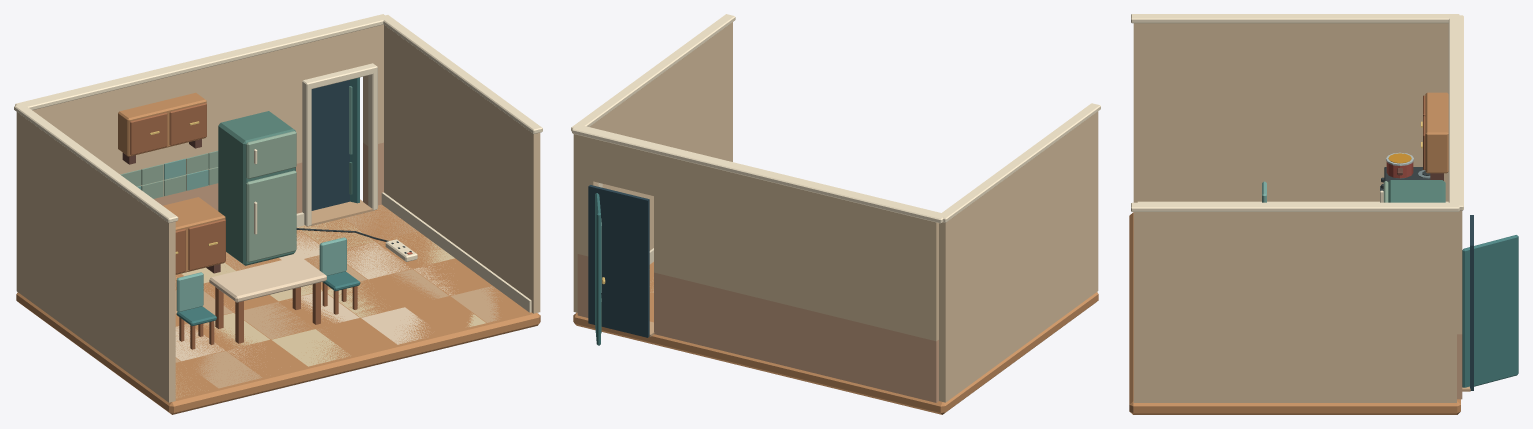
File: kitchen.glb
3 views of the same model, side by side, from view 1: azimuth 30°, elevation 25°; view 2: azimuth 150°, elevation 25°; view 3: azimuth 270°, elevation 25° (orthographic). The views are drawn at different scales.
Visible parts, largest first — view 1: architecture_stone_plaster_metal, intact_refrigerator, intact_wall_cabinet, intact_kitchen_table, intact_base_cabinet, intact_chair_left, intact_chair_right, intact_door, intact_power_strip; view 2: architecture_stone_plaster_metal, intact_door; view 3: architecture_stone_plaster_metal, intact_door, intact_wall_cabinet, intact_refrigerator, intact_oil_pot, intact_stove.
Part boxes in pixels (left/top/right/bottom): architecture_stone_plaster_metal: left=14, top=14, right=542, bottom=414; intact_refrigerator: left=218, top=111, right=296, bottom=265; intact_wall_cabinet: left=118, top=92, right=206, bottom=164; intact_kitchen_table: left=209, top=256, right=326, bottom=343; intact_base_cabinet: left=163, top=197, right=225, bottom=274; intact_chair_left: left=176, top=272, right=216, bottom=349; intact_chair_right: left=319, top=237, right=360, bottom=314; intact_door: left=349, top=77, right=359, bottom=203; intact_power_strip: left=296, top=228, right=417, bottom=261; architecture_stone_plaster_metal: left=571, top=14, right=1100, bottom=414; intact_door: left=595, top=193, right=605, bottom=345; architecture_stone_plaster_metal: left=1129, top=14, right=1473, bottom=414; intact_door: left=1462, top=235, right=1518, bottom=387; intact_wall_cabinet: left=1421, top=92, right=1448, bottom=180; intact_refrigerator: left=1380, top=180, right=1445, bottom=202; intact_oil_pot: left=1386, top=152, right=1413, bottom=178; intact_stove: left=1380, top=167, right=1430, bottom=190.
Size of what is drawn, in the model's own units: 6.7 by 3.38 by 5.68.
1 material, 1 textured.
